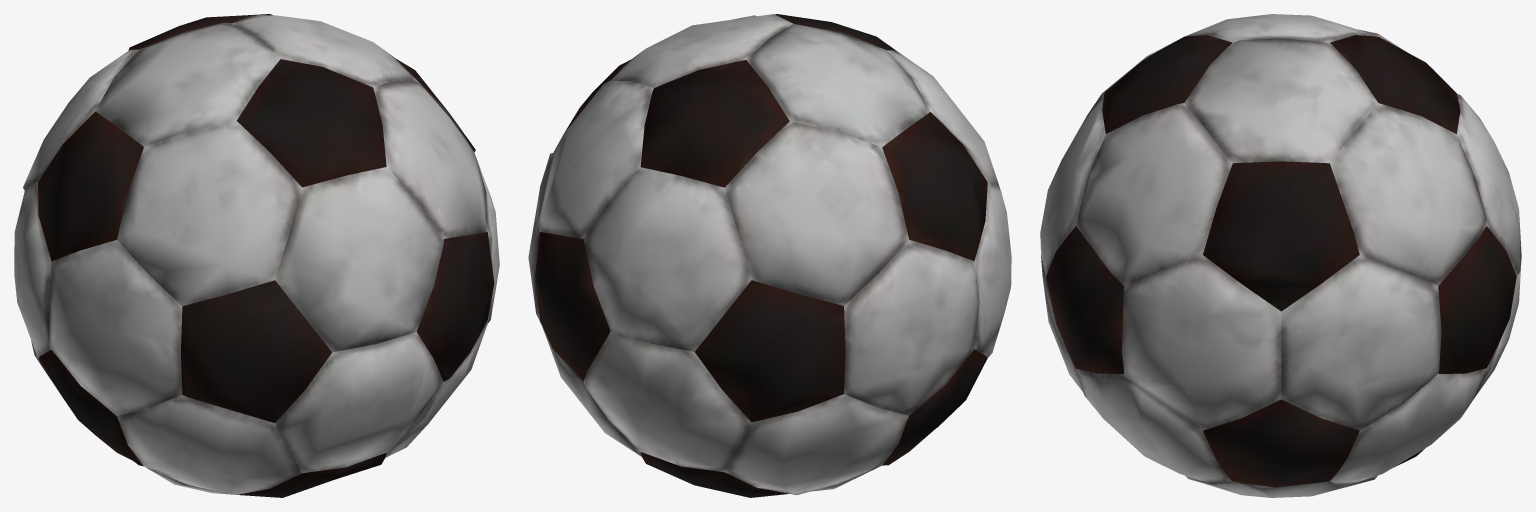
Rendered from ball_01.glb.
3 views of the same model, side by side, from view 1: azimuth 30°, elevation 25°; view 2: azimuth 150°, elevation 25°; view 3: azimuth 270°, elevation 25° (orthographic).
Parts seen in each view (by area): view 1: Hedra2_Standardmaterial_0; view 2: Hedra2_Standardmaterial_0; view 3: Hedra2_Standardmaterial_0.
Part boxes in pixels (x1=…): Hedra2_Standardmaterial_0: x1=14, y1=14, x2=499, y2=497; Hedra2_Standardmaterial_0: x1=528, y1=14, x2=1011, y2=497; Hedra2_Standardmaterial_0: x1=1040, y1=14, x2=1521, y2=497.
Size of the model in its own units: 0.9966 by 0.9922 by 0.9922.
Materials: 1 (1 with a texture image).
